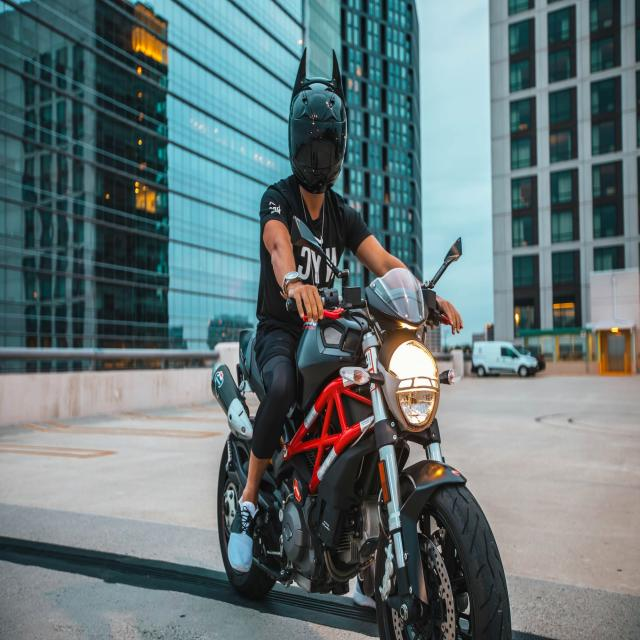adult: (239, 90, 464, 528)
